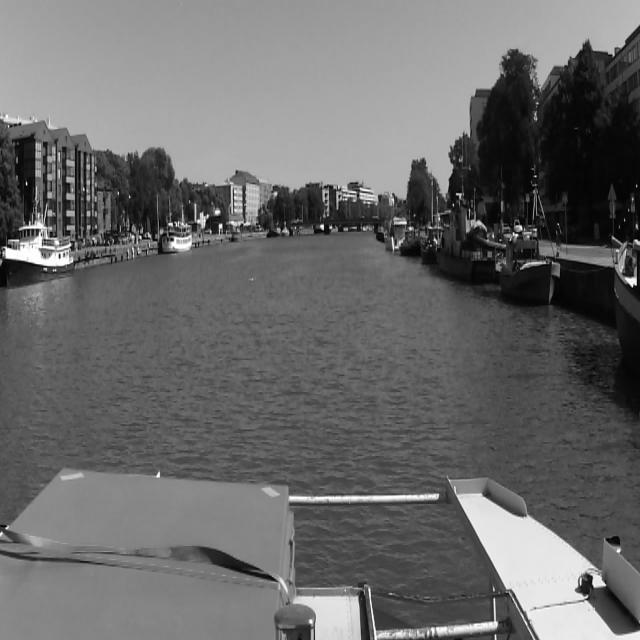ship: (496, 220, 562, 316), (426, 194, 476, 303), (0, 220, 76, 290), (160, 220, 193, 258), (397, 228, 428, 258), (383, 218, 405, 246), (268, 220, 280, 238), (232, 228, 243, 239), (281, 220, 289, 234)
